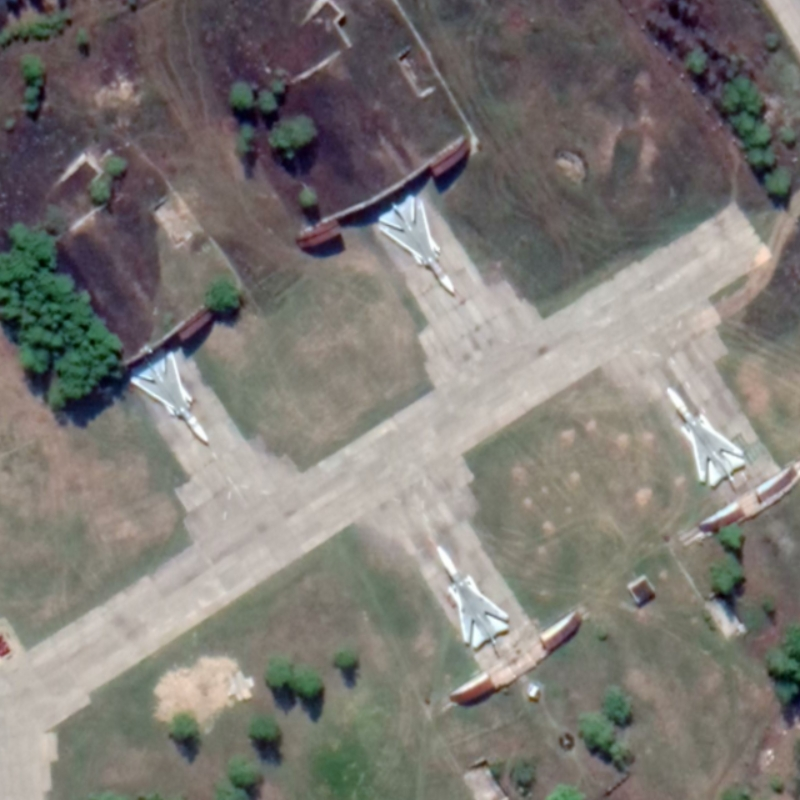A20: (664, 385, 747, 489), (127, 346, 212, 446), (377, 192, 457, 297), (434, 544, 511, 651)
